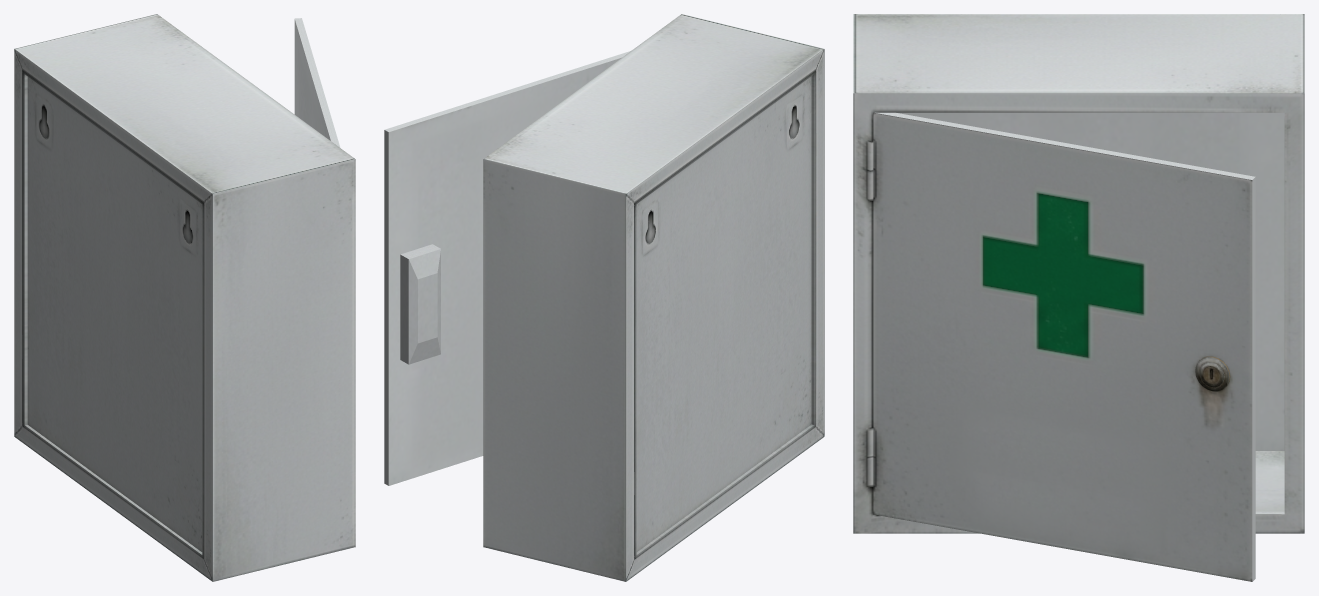
The model's file is Lbox.fbx.
3 renders of one model, left to right at view 1: azimuth 30°, elevation 25°; view 2: azimuth 150°, elevation 25°; view 3: azimuth 270°, elevation 25°, orthographic. The views are drawn at different scales.
Parts seen in each view (by area): view 1: Box, Door; view 2: Box, Door; view 3: Door, Box.
Part boxes in pixels (left/top/right/bottom): Box: left=14, top=14, right=355, bottom=581; Door: left=294, top=18, right=340, bottom=147; Box: left=483, top=14, right=824, bottom=581; Door: left=384, top=51, right=630, bottom=485; Door: left=873, top=112, right=1255, bottom=581; Box: left=853, top=14, right=1304, bottom=533.
Size of the model in its own units: 99.66 by 139 by 129.
1 material, 1 textured.
